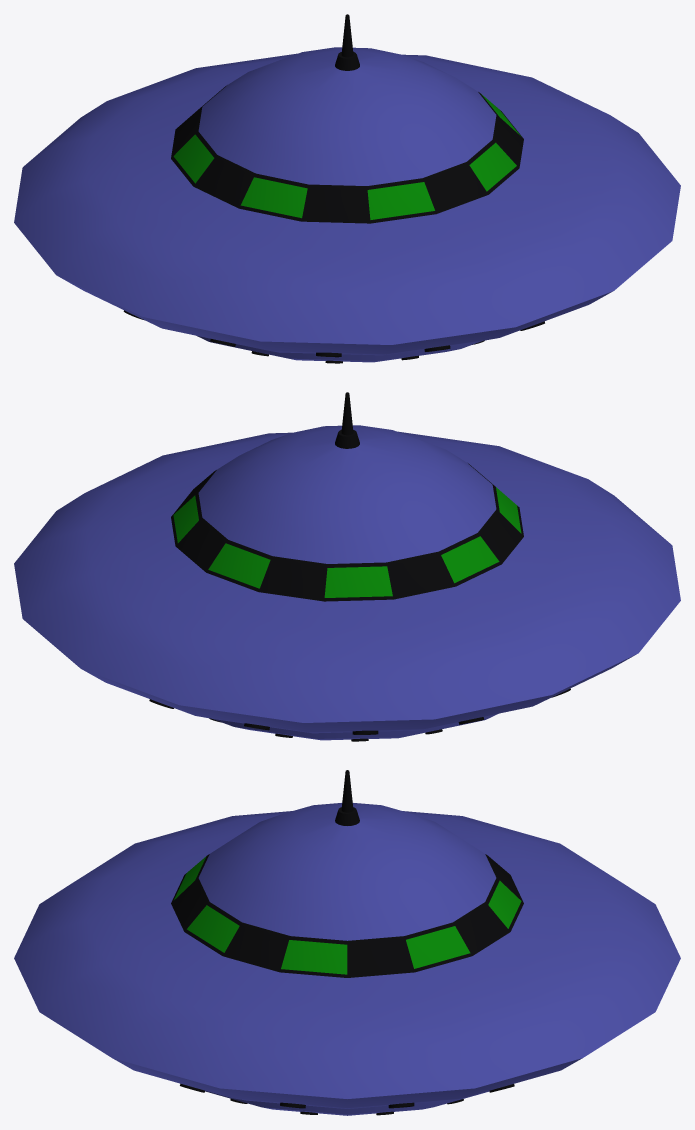
The model's file is UFO.obj.
3 views of the same model, one above another, from view 1: azimuth 30°, elevation 25°; view 2: azimuth 150°, elevation 25°; view 3: azimuth 270°, elevation 25° (orthographic).
Visible parts, largest first — view 1: UFO; view 2: UFO; view 3: UFO.
Boxes of the visible parts, box(x1,y1,x2,y2) form: UFO: box(14, 14, 680, 363); UFO: box(14, 392, 680, 741); UFO: box(14, 770, 680, 1115).
Size of the model in its own units: 4.61 by 2.03 by 4.61.
